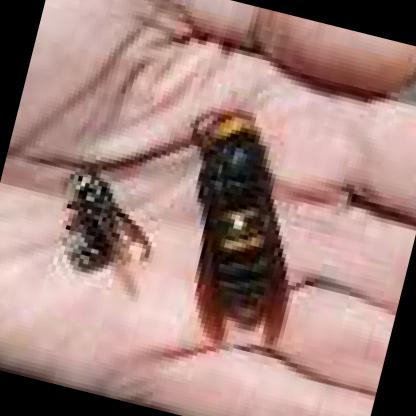asian: (138, 89, 320, 346)
